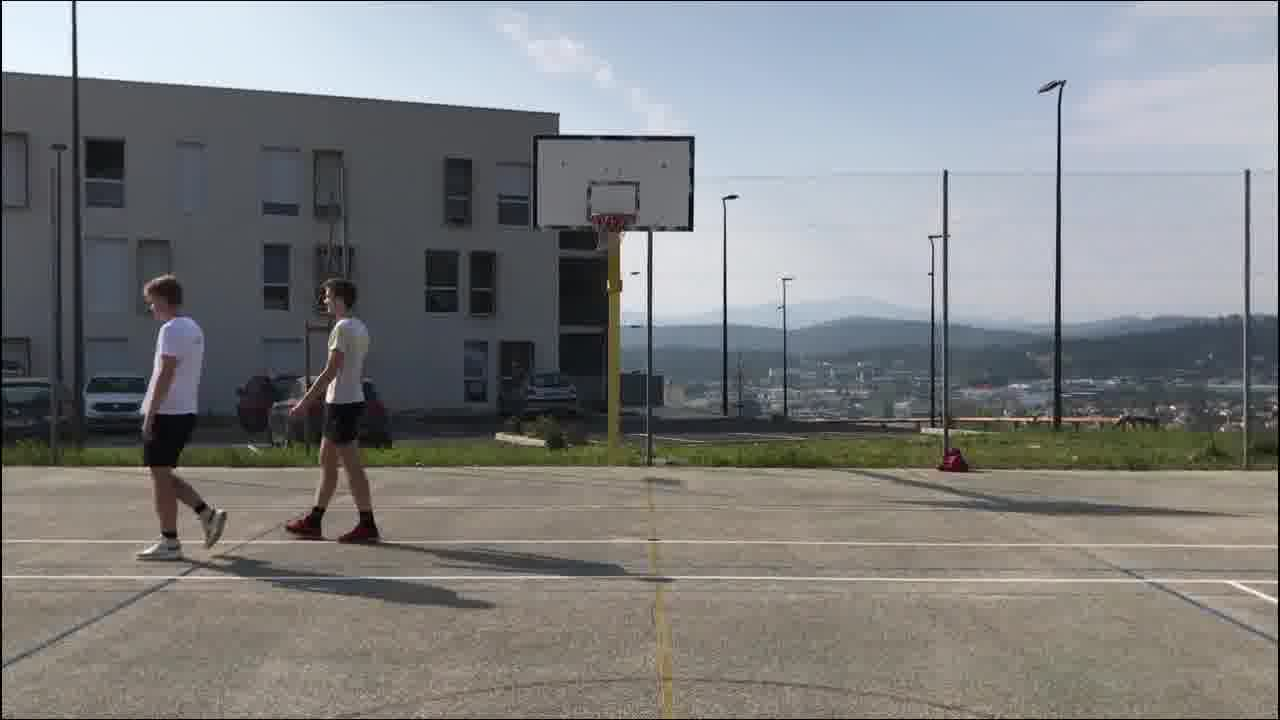jugador: (277, 270, 388, 554)
